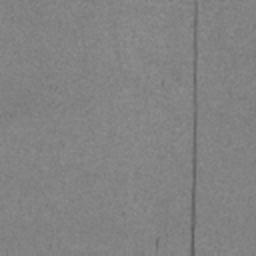Scratches: (189, 0, 199, 256), (155, 237, 160, 249)
